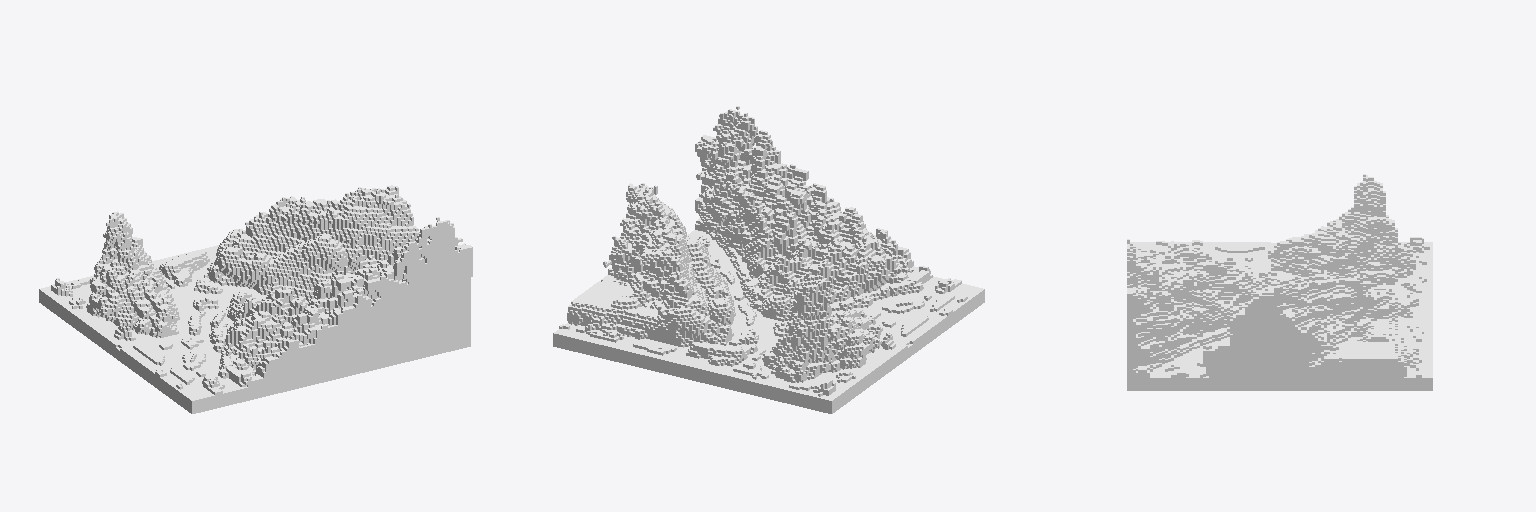
The model's file is Lava_stuff-32.obj.
The picture shows the model from 3 angles: view 1: azimuth 30°, elevation 25°; view 2: azimuth 150°, elevation 25°; view 3: azimuth 270°, elevation 25°; orthographic projection.
Visible parts, largest first — view 1: object 1; view 2: object 1; view 3: object 1.
Boxes of the visible parts, x1=… form: object 1: x1=39, y1=185, x2=472, y2=413; object 1: x1=553, y1=106, x2=984, y2=413; object 1: x1=1127, y1=174, x2=1432, y2=390.
Size of the model in its own units: 22 by 10.2 by 20.8.